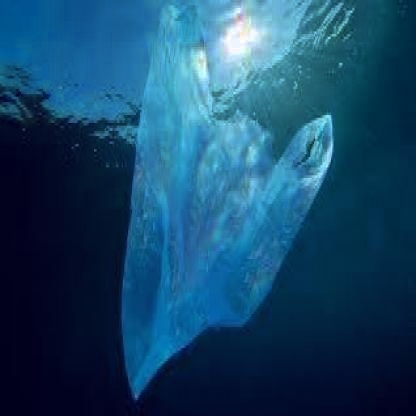pbag: (114, 3, 337, 403)
